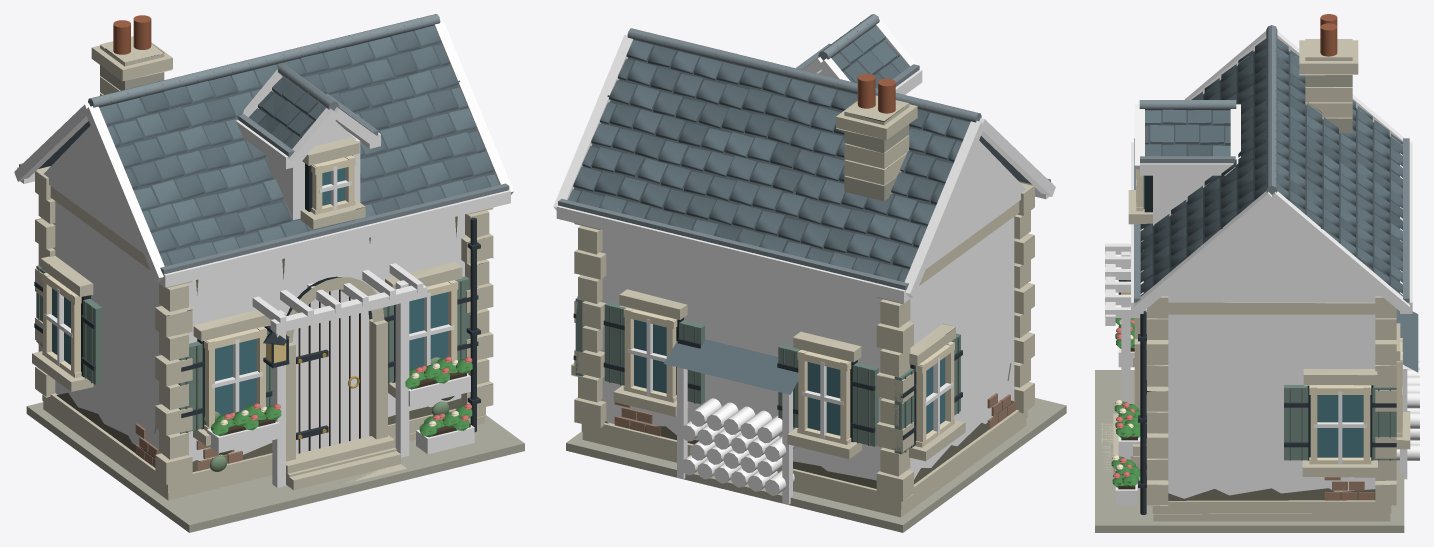
File: garden_house_ash.glb
3 renders of one model, left to right at view 1: azimuth 30°, elevation 25°; view 2: azimuth 150°, elevation 25°; view 3: azimuth 270°, elevation 25°, orthographic. The views are drawn at different scales.
Parts seen in each view (by area): view 1: SourceMesh_00056, SourceMesh_00005, SourceMesh_00000, SourceMesh_00106, SourceMesh_00047, SourceMesh_00048, SourceMesh_00050, SourceMesh_00006, SourceMesh_00049, SourceMesh_00099, SourceMesh_00052, SourceMesh_00310 (+52 smaller); view 2: SourceMesh_00056, SourceMesh_00005, SourceMesh_00044, SourceMesh_00000, SourceMesh_00045, SourceMesh_00050, SourceMesh_00006, SourceMesh_00374, SourceMesh_00046, SourceMesh_00001, SourceMesh_00051, SourceMesh_00099 (+49 smaller); view 3: SourceMesh_00005, SourceMesh_00056, SourceMesh_00053, SourceMesh_00000, SourceMesh_00099, SourceMesh_00044, SourceMesh_00006, SourceMesh_00007, SourceMesh_00214, SourceMesh_00054, SourceMesh_00055, SourceMesh_00047 (+56 smaller).
Boxes of the visible parts, x1,y1,x2,y2 form: SourceMesh_00056: (99, 25, 499, 266); SourceMesh_00005: (52, 201, 478, 461); SourceMesh_00000: (26, 402, 524, 532); SourceMesh_00106: (292, 289, 369, 453); SourceMesh_00047: (107, 31, 493, 264); SourceMesh_00048: (158, 190, 510, 287); SourceMesh_00050: (42, 126, 143, 253); SourceMesh_00006: (42, 393, 485, 492); SourceMesh_00049: (160, 183, 509, 274); SourceMesh_00099: (249, 77, 325, 148); SourceMesh_00052: (85, 106, 164, 282); SourceMesh_00310: (395, 280, 409, 457); SourceMesh_00056: (568, 40, 969, 282); SourceMesh_00005: (589, 215, 1019, 480); SourceMesh_00044: (573, 45, 962, 280); SourceMesh_00000: (566, 398, 1066, 532); SourceMesh_00045: (556, 205, 910, 303); SourceMesh_00050: (926, 140, 1026, 268); SourceMesh_00006: (581, 410, 1027, 509); SourceMesh_00374: (664, 339, 798, 394); SourceMesh_00046: (558, 198, 908, 290); SourceMesh_00001: (582, 418, 1026, 517); SourceMesh_00051: (904, 121, 983, 298); SourceMesh_00099: (831, 26, 909, 88); SourceMesh_00005: (1158, 302, 1384, 498); SourceMesh_00056: (1140, 38, 1402, 296); SourceMesh_00053: (1162, 203, 1381, 302); SourceMesh_00000: (1095, 370, 1404, 532); SourceMesh_00099: (1145, 109, 1230, 156); SourceMesh_00044: (1277, 47, 1399, 292); SourceMesh_00006: (1152, 500, 1391, 514); SourceMesh_00007: (1168, 302, 1375, 314); SourceMesh_00214: (1317, 395, 1363, 457); SourceMesh_00054: (1269, 191, 1409, 313); SourceMesh_00055: (1134, 191, 1274, 313); SourceMesh_00047: (1143, 47, 1266, 292).
Size of the model in its own units: 5.29 by 5.78 by 4.41.
